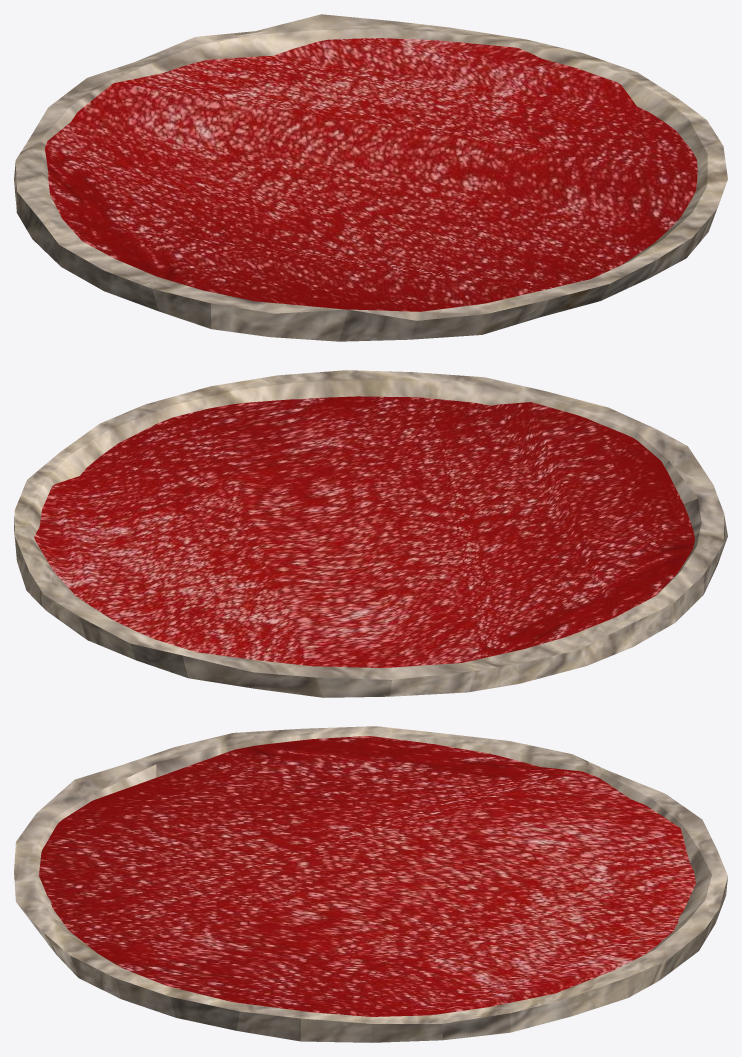
File: pizzabodem_saus.glb
The picture shows the model from 3 angles, top to bottom: view 1: azimuth 30°, elevation 25°; view 2: azimuth 150°, elevation 25°; view 3: azimuth 270°, elevation 25°; orthographic projection.
Visible parts, largest first — view 1: Cylinder.002, Cylinder.001; view 2: Cylinder.002, Cylinder.001; view 3: Cylinder.002, Cylinder.001.
Part boxes in pixels (x1,y1,x2,y2): Cylinder.002: (45, 38, 697, 311); Cylinder.001: (14, 14, 727, 341); Cylinder.002: (34, 396, 694, 667); Cylinder.001: (14, 370, 727, 697); Cylinder.002: (39, 736, 695, 1016); Cylinder.001: (14, 726, 727, 1042).
Size of the model in its own units: 2.98 by 0.155 by 3.02.
2 materials, 2 textured.
